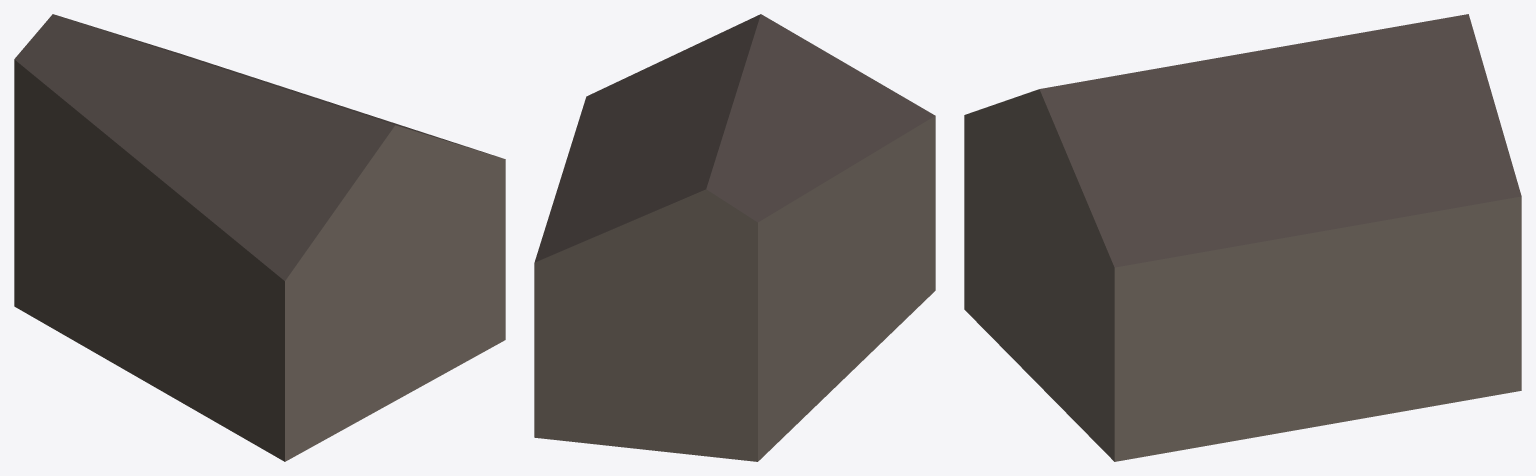
The picture shows the model from 3 angles, left to right: view 1: azimuth 30°, elevation 25°; view 2: azimuth 150°, elevation 25°; view 3: azimuth 270°, elevation 25°; orthographic projection. The views are drawn at different scales.
Visible parts, largest first — view 1: HP-w442042709; view 2: HP-w442042709; view 3: HP-w442042709.
Part boxes in pixels (x1,y1,x2,y2): HP-w442042709: (14, 14, 505, 461); HP-w442042709: (534, 14, 935, 461); HP-w442042709: (964, 14, 1521, 461).
Size of the model in its own units: 17.43 by 13.74 by 23.39.
